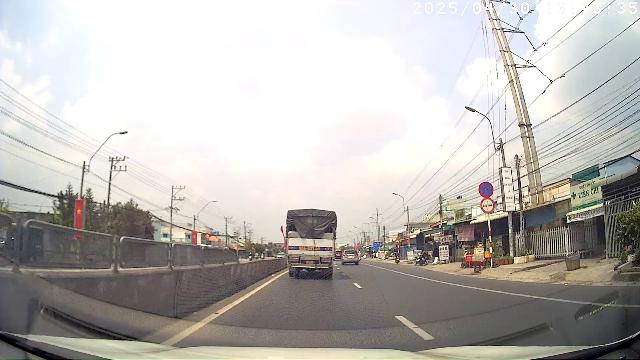125-cam-vuot: (480, 197, 494, 213)
130-cam-dung-va-do-xe: (478, 182, 494, 198)
